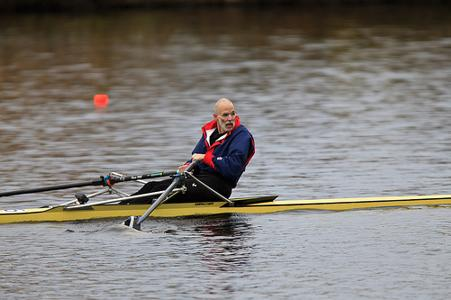person: (122, 99, 258, 208)
